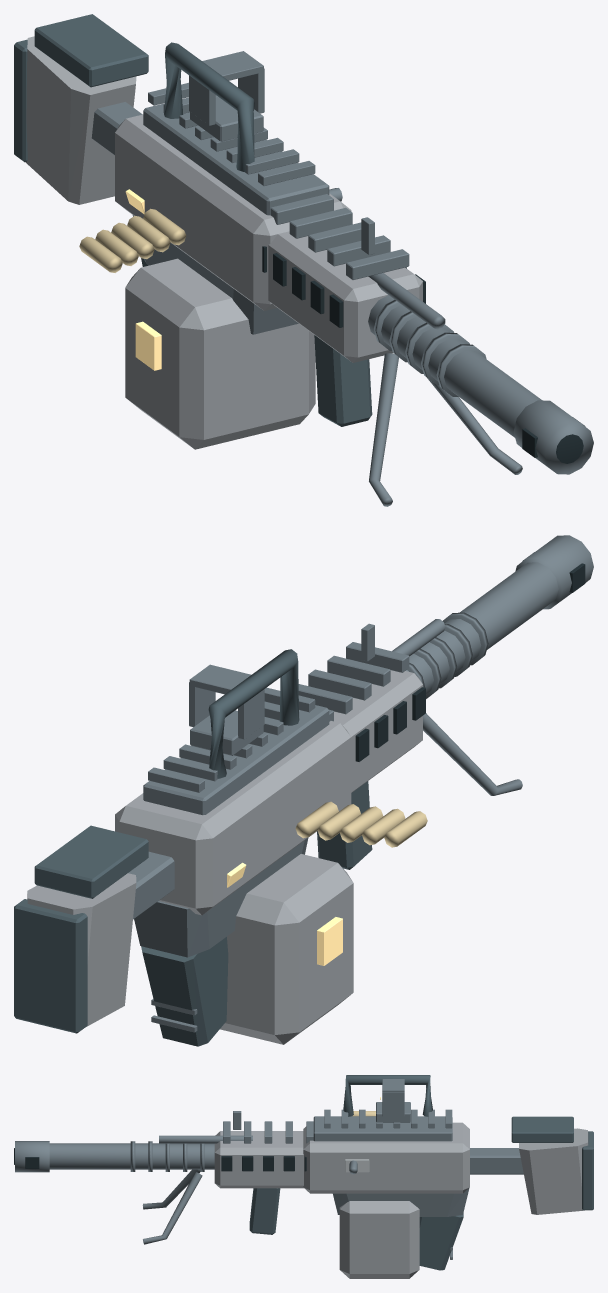
File: thunderpaw.glb
The picture shows the model from 3 angles, top to bottom: view 1: azimuth 30°, elevation 25°; view 2: azimuth 150°, elevation 25°; view 3: azimuth 270°, elevation 25°; orthographic projection. The views are drawn at different scales.
Visible parts, largest first — view 1: magazine_box_59, receiver_1, stock_23, handguard_28, barrel_26, cheek_rest_25, receiver_top_cover_3, carry_handle_66, foregrip_44, muzzle_brake_53, receiver_lower_2, bipod_67 (+21 smaller); view 2: receiver_1, magazine_box_59, stock_pad_24, stock_23, pistol_grip_17, barrel_26, cheek_rest_25, receiver_lower_2, receiver_top_cover_3, handguard_28, carry_handle_66, muzzle_brake_53 (+20 smaller); view 3: receiver_1, magazine_box_59, stock_23, handguard_28, barrel_26, receiver_top_cover_3, receiver_lower_2, pistol_grip_17, cheek_rest_25, stock_beam_22, foregrip_44, carry_handle_66 (+8 smaller).
Part boxes in pixels (bbox=[...]): magazine_box_59: bbox=[125, 258, 315, 449]; receiver_1: bbox=[115, 114, 351, 310]; stock_23: bbox=[25, 36, 136, 204]; handguard_28: bbox=[268, 231, 422, 362]; barrel_26: bbox=[368, 295, 541, 437]; cheek_rest_25: bbox=[34, 14, 148, 87]; receiver_top_cover_3: bbox=[143, 97, 329, 215]; carry_handle_66: bbox=[164, 42, 254, 171]; foregrip_44: bbox=[314, 335, 372, 426]; muzzle_brake_53: bbox=[513, 400, 593, 474]; receiver_lower_2: bbox=[132, 215, 298, 334]; bipod_67: bbox=[369, 353, 398, 506]; receiver_1: bbox=[115, 721, 351, 915]; magazine_box_59: bbox=[220, 854, 353, 1044]; stock_pad_24: bbox=[14, 899, 87, 1033]; stock_23: bbox=[27, 873, 136, 1027]; pistol_grip_17: bbox=[141, 937, 228, 1046]; barrel_26: bbox=[406, 562, 558, 694]; cheek_rest_25: bbox=[34, 825, 148, 898]; receiver_lower_2: bbox=[134, 838, 308, 957]; receiver_top_cover_3: bbox=[143, 701, 329, 815]; handguard_28: bbox=[334, 670, 422, 792]; carry_handle_66: bbox=[208, 649, 299, 778]; muzzle_brake_53: bbox=[515, 535, 593, 609]; receiver_1: bbox=[303, 1122, 469, 1193]; magazine_box_59: bbox=[339, 1201, 419, 1278]; stock_23: bbox=[519, 1128, 588, 1214]; handguard_28: bbox=[214, 1131, 303, 1188]; barrel_26: bbox=[49, 1143, 214, 1169]; receiver_top_cover_3: bbox=[313, 1116, 452, 1141]; receiver_lower_2: bbox=[333, 1188, 469, 1216]; pistol_grip_17: bbox=[419, 1213, 463, 1270]; cheek_rest_25: bbox=[511, 1116, 573, 1142]; stock_beam_22: bbox=[470, 1148, 523, 1174]; foregrip_44: bbox=[249, 1188, 280, 1234]; carry_handle_66: bbox=[343, 1075, 432, 1116].
Bounding box in the file's own units: 0.4335 × 0.5994 × 1.67.
